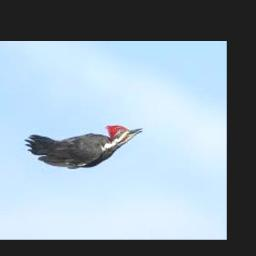Woodpecker: (23, 125, 142, 168)
